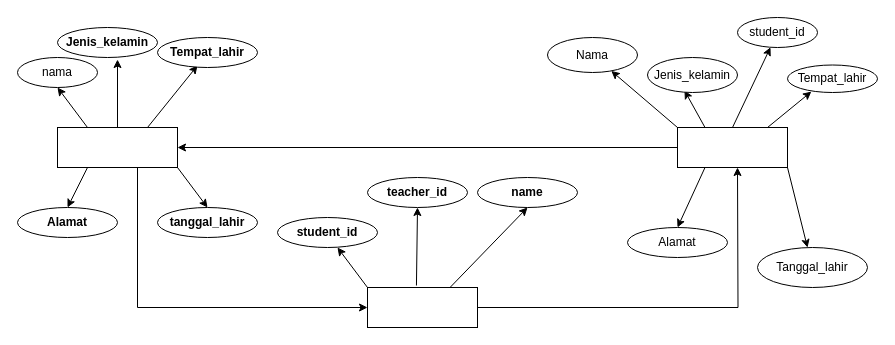
Image size: 895x345. Some labels were removed from this diagram. The centre of each missing label's shape, as x and y in pixels:
"Mata pelajaran" belongs at point 422,307.
"siswa" belongs at point 117,147.
"Teacher" belongs at point 732,147.
